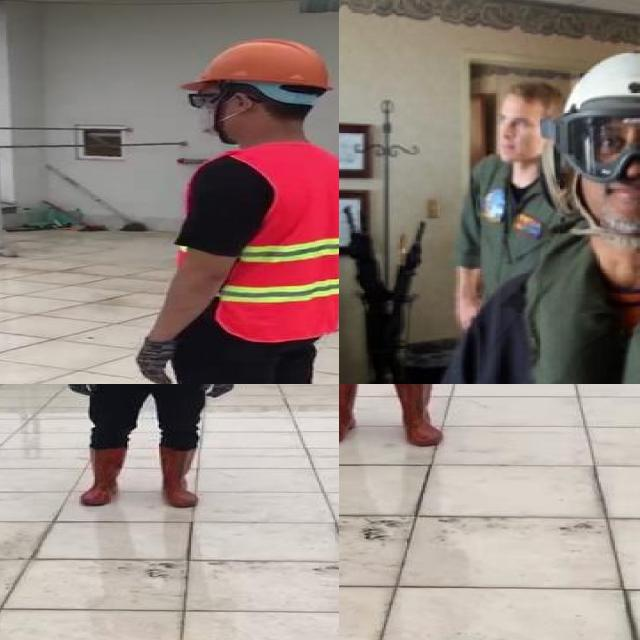boots: (386, 384, 448, 447), (81, 445, 125, 507), (157, 446, 200, 508), (339, 384, 361, 445)
face_nomask: (582, 113, 640, 212), (496, 102, 531, 160)
glasses: (554, 102, 640, 184)
hand_glove: (130, 338, 181, 384), (66, 384, 102, 397), (201, 384, 233, 398)
head_helmet: (176, 39, 336, 94), (550, 46, 640, 123)
head_nohelmet: (504, 72, 554, 106)
person: (127, 37, 339, 384), (435, 70, 640, 384), (50, 384, 246, 505)
vest: (171, 142, 339, 340)
